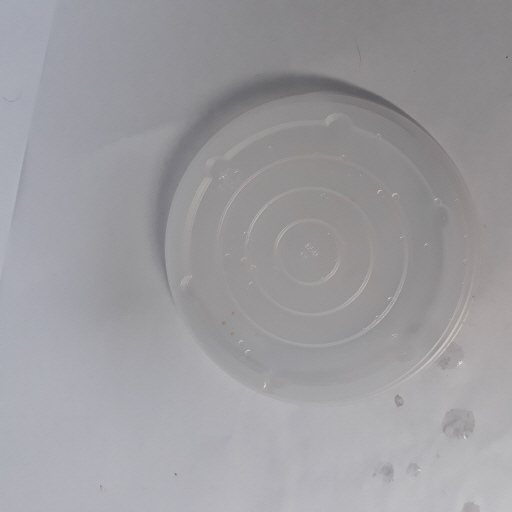Plastic_5: (161, 89, 481, 404)
